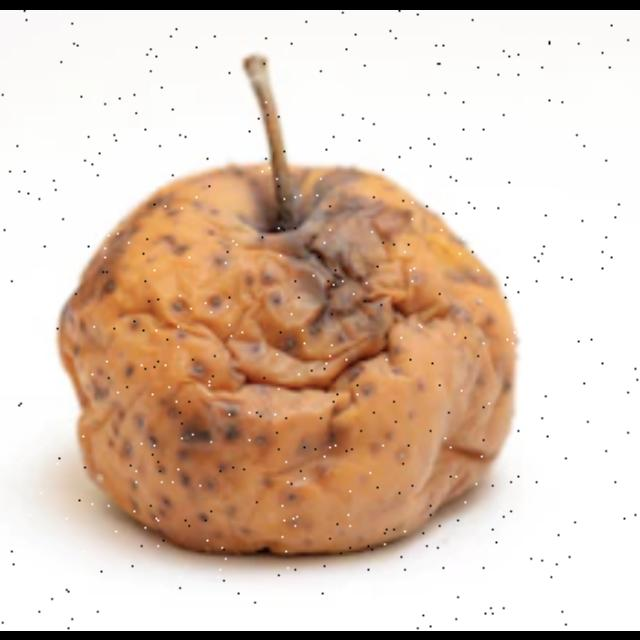Apel Tidak Segar: (48, 154, 526, 570)
